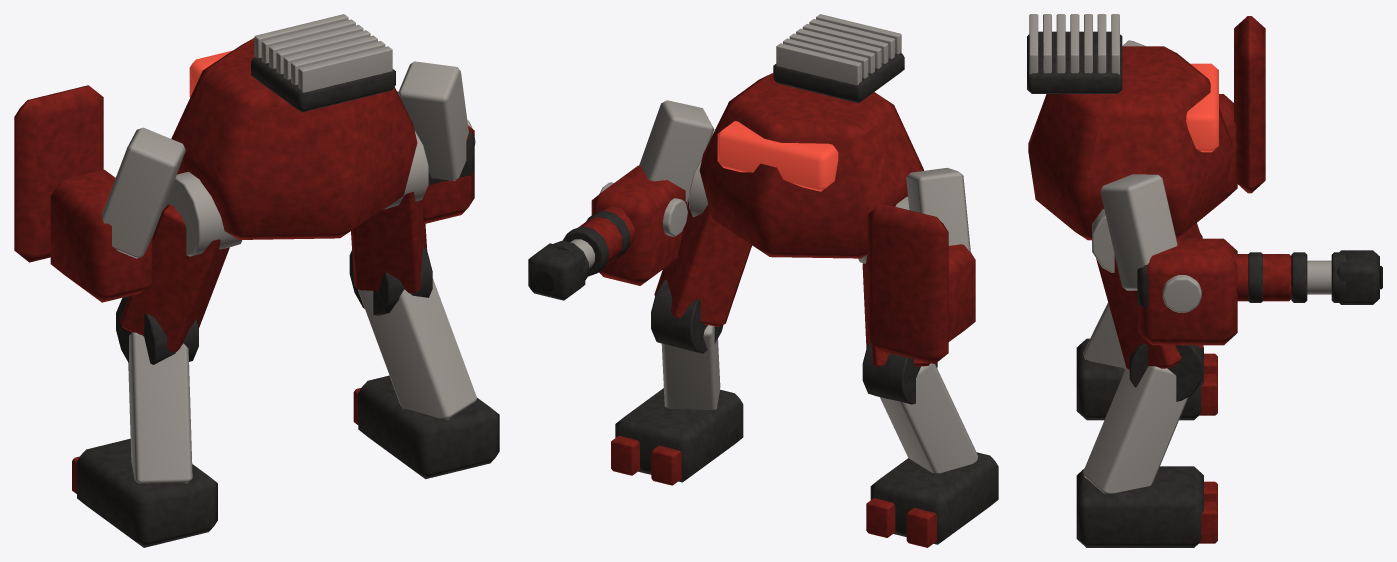
The model's file is kharn_gladiateur.gltf.
The picture shows the model from 3 angles, left to right: view 1: azimuth 30°, elevation 25°; view 2: azimuth 150°, elevation 25°; view 3: azimuth 270°, elevation 25°; orthographic projection. The views are drawn at different scales.
Visible parts, largest first — view 1: Body.001_Geometry, Arm_-1.002_Geometry, Knee_R0.001_Geometry, Hip_L0.001_Geometry, Knee_L0.001_Geometry, Foot_L0.001_Geometry, Foot_R0.001_Geometry, Arm_1.002_Geometry, Hip_R0.001_Geometry; view 2: Body.001_Geometry, Arm_-1.002_Geometry, Arm_1.002_Geometry, Foot_R0.001_Geometry, Foot_L0.001_Geometry, Knee_L0.001_Geometry, Hip_R0.001_Geometry, Knee_R0.001_Geometry, GunRecoil.010_Geometry, Hip_L0.001_Geometry, GunPitch.014_Geometry; view 3: Body.001_Geometry, Arm_1.002_Geometry, Knee_R0.001_Geometry, Foot_R0.001_Geometry, GunRecoil.010_Geometry, Arm_-1.002_Geometry, Foot_L0.001_Geometry, Hip_R0.001_Geometry, GunPitch.014_Geometry, Knee_L0.001_Geometry.
Boxes of the visible parts, <box> form: Body.001_Geometry: <box>171,14,417,239</box>; Arm_-1.002_Geometry: <box>14,85,185,302</box>; Knee_R0.001_Geometry: <box>349,246,476,419</box>; Hip_L0.001_Geometry: <box>120,171,242,352</box>; Knee_L0.001_Geometry: <box>116,296,198,483</box>; Foot_L0.001_Geometry: <box>72,438,217,547</box>; Foot_R0.001_Geometry: <box>353,375,499,479</box>; Arm_1.002_Geometry: <box>398,61,474,223</box>; Hip_R0.001_Geometry: <box>351,130,428,293</box>; Body.001_Geometry: <box>699,14,923,258</box>; Arm_-1.002_Geometry: <box>867,167,975,363</box>; Arm_1.002_Geometry: <box>591,100,714,285</box>; Foot_R0.001_Geometry: <box>611,388,743,485</box>; Foot_L0.001_Geometry: <box>866,452,998,547</box>; Knee_L0.001_Geometry: <box>862,341,977,473</box>; Hip_R0.001_Geometry: <box>654,159,751,326</box>; Knee_R0.001_Geometry: <box>651,279,723,409</box>; GunRecoil.010_Geometry: <box>528,206,635,300</box>; Hip_L0.001_Geometry: <box>858,196,930,367</box>; GunPitch.014_Geometry: <box>599,182,687,236</box>; Body.001_Geometry: <box>1027,14,1232,240</box>; Arm_1.002_Geometry: <box>1100,174,1237,345</box>; Knee_R0.001_Geometry: <box>1083,343,1202,493</box>; Foot_R0.001_Geometry: <box>1076,466,1217,547</box>; GunRecoil.010_Geometry: <box>1233,250,1382,304</box>; Arm_-1.002_Geometry: <box>1122,16,1265,198</box>; Foot_L0.001_Geometry: <box>1076,338,1217,420</box>; Hip_R0.001_Geometry: <box>1092,209,1203,369</box>; GunPitch.014_Geometry: <box>1137,265,1201,312</box>; Knee_L0.001_Geometry: <box>1083,233,1202,369</box>.
Size of the model in its own units: 2.24 by 2.41 by 1.79.
5 materials, 3 textured.
